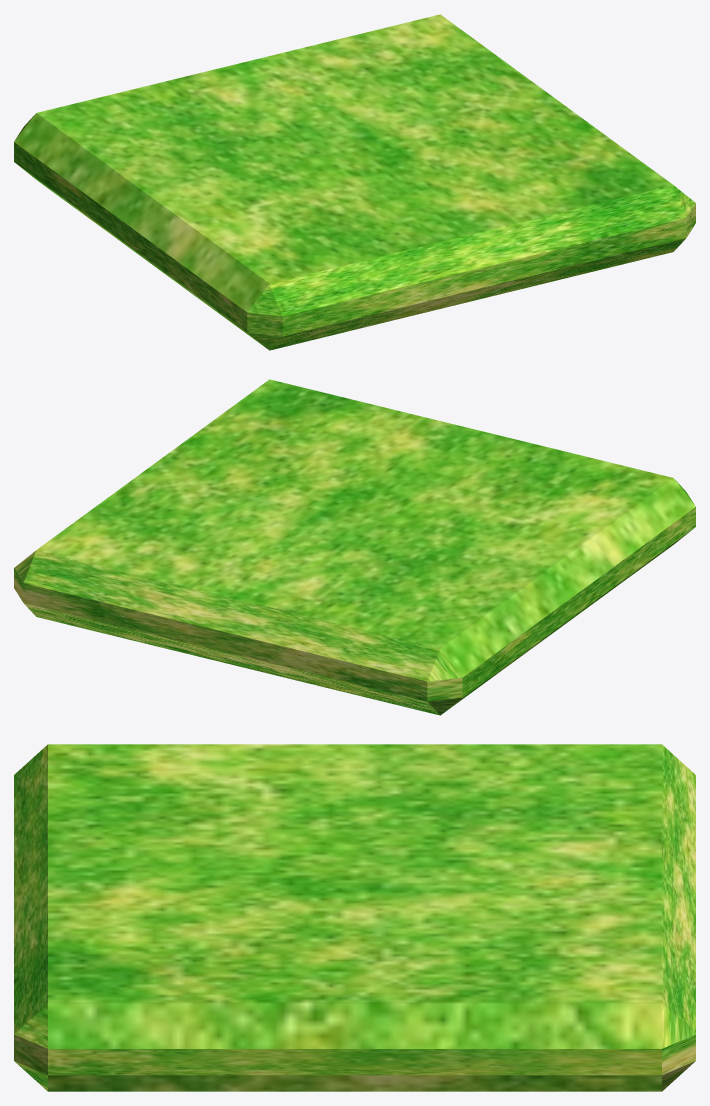
The model's file is MoveFloor.fbx.
3 renders of one model, top to bottom at view 1: azimuth 30°, elevation 25°; view 2: azimuth 150°, elevation 25°; view 3: azimuth 270°, elevation 25°, orthographic. The views are drawn at different scales.
Parts seen in each view (by area): view 1: pCube1; view 2: pCube1; view 3: pCube1.
Boxes of the visible parts, x1,y1,x2,y2 form: pCube1: (14,14,695,350); pCube1: (14,379,695,715); pCube1: (14,744,695,1091).
Size of the model in its own units: 4.1 by 0.5838 by 4.1.
